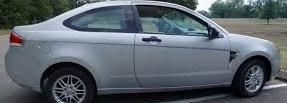Cars: (4, 2, 280, 103)
